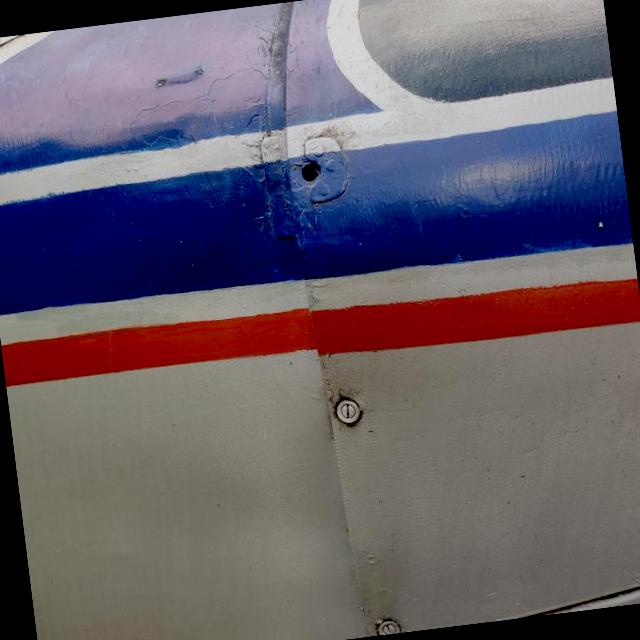Missing Fastener: (298, 158, 320, 182)
